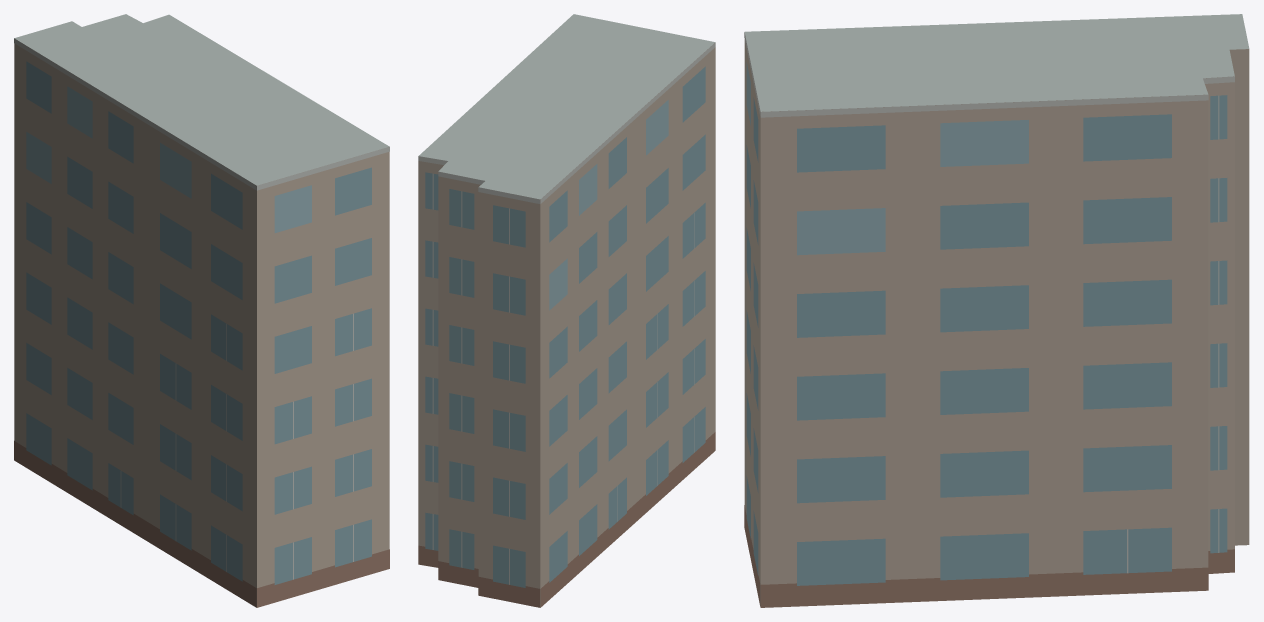
The model's file is survey-upis-33045738.glb.
The picture shows the model from 3 angles, left to right: view 1: azimuth 30°, elevation 25°; view 2: azimuth 150°, elevation 25°; view 3: azimuth 270°, elevation 25°; orthographic projection. The views are drawn at different scales.
Parts seen in each view (by area): view 1: survey-upis-33045738.tmp; view 2: survey-upis-33045738.tmp; view 3: survey-upis-33045738.tmp.
Part boxes in pixels (left/top/right/bottom): survey-upis-33045738.tmp: left=14, top=14, right=389, bottom=607; survey-upis-33045738.tmp: left=418, top=14, right=715, bottom=607; survey-upis-33045738.tmp: left=744, top=14, right=1249, bottom=607.
Size of the model in its own units: 8.81 by 20.8 by 19.2.
